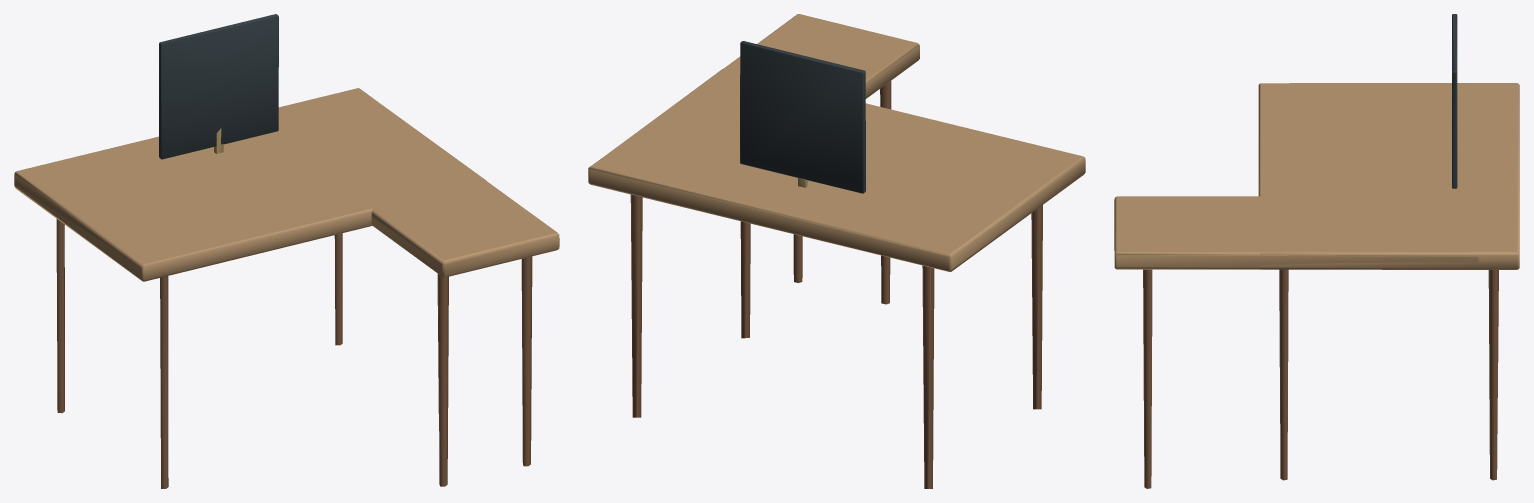
The model's file is desk-5-2.lod.glb.
3 renders of one model, left to right at view 1: azimuth 30°, elevation 25°; view 2: azimuth 150°, elevation 25°; view 3: azimuth 270°, elevation 25°, orthographic. The views are drawn at different scales.
Visible parts, largest first — view 1: upholstery (×2), part; view 2: upholstery (×2), part; view 3: upholstery (×2), part.
Boxes of the visible parts, box(x1,y1,x2,y2) form: upholstery (×2): box(14, 14, 559, 281); part: box(56, 219, 532, 488); upholstery (×2): box(588, 14, 1085, 271); part: box(630, 81, 1042, 488); upholstery (×2): box(1114, 14, 1519, 269); part: box(1143, 269, 1498, 488).
Size of the model in its own units: 1 by 1 by 1.
